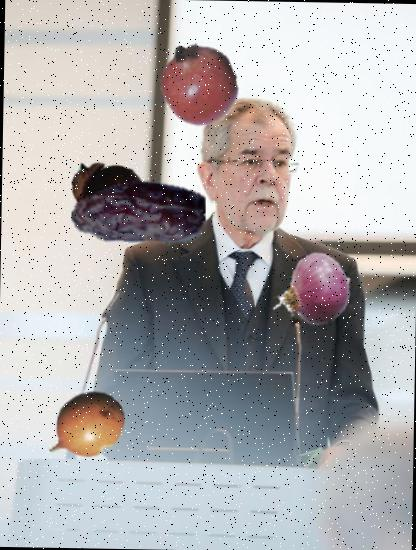Dates: (70, 145, 206, 281)
Granadilla: (42, 384, 128, 470)
Mangostan: (69, 154, 148, 234)
Onion: (268, 250, 353, 336)
Pomegranate: (157, 40, 242, 126)
